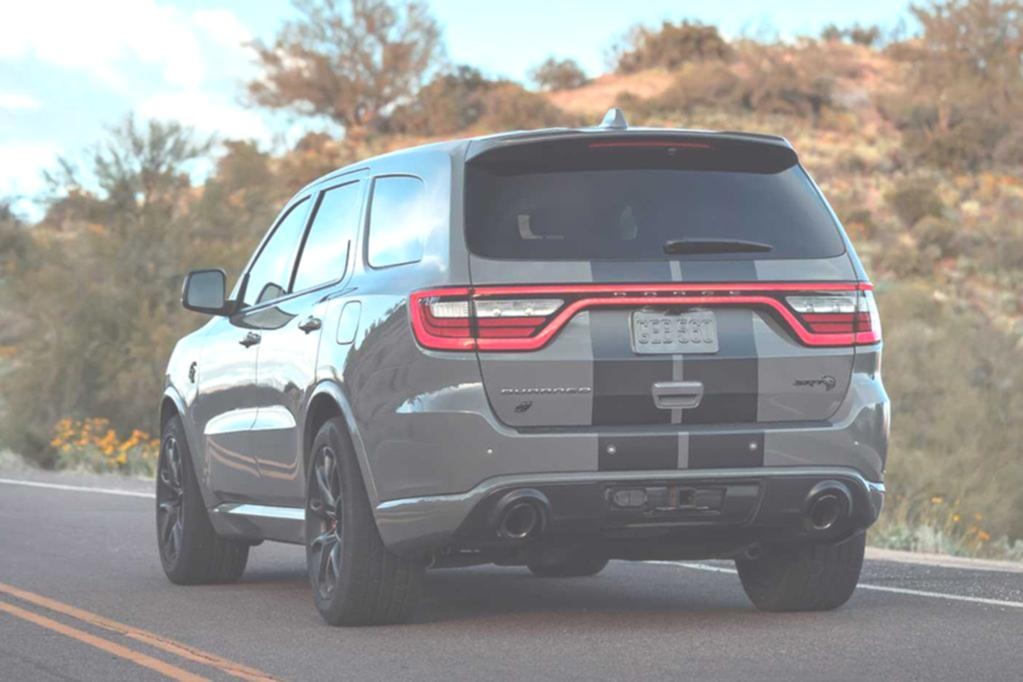dodge: (597, 280, 760, 313)
